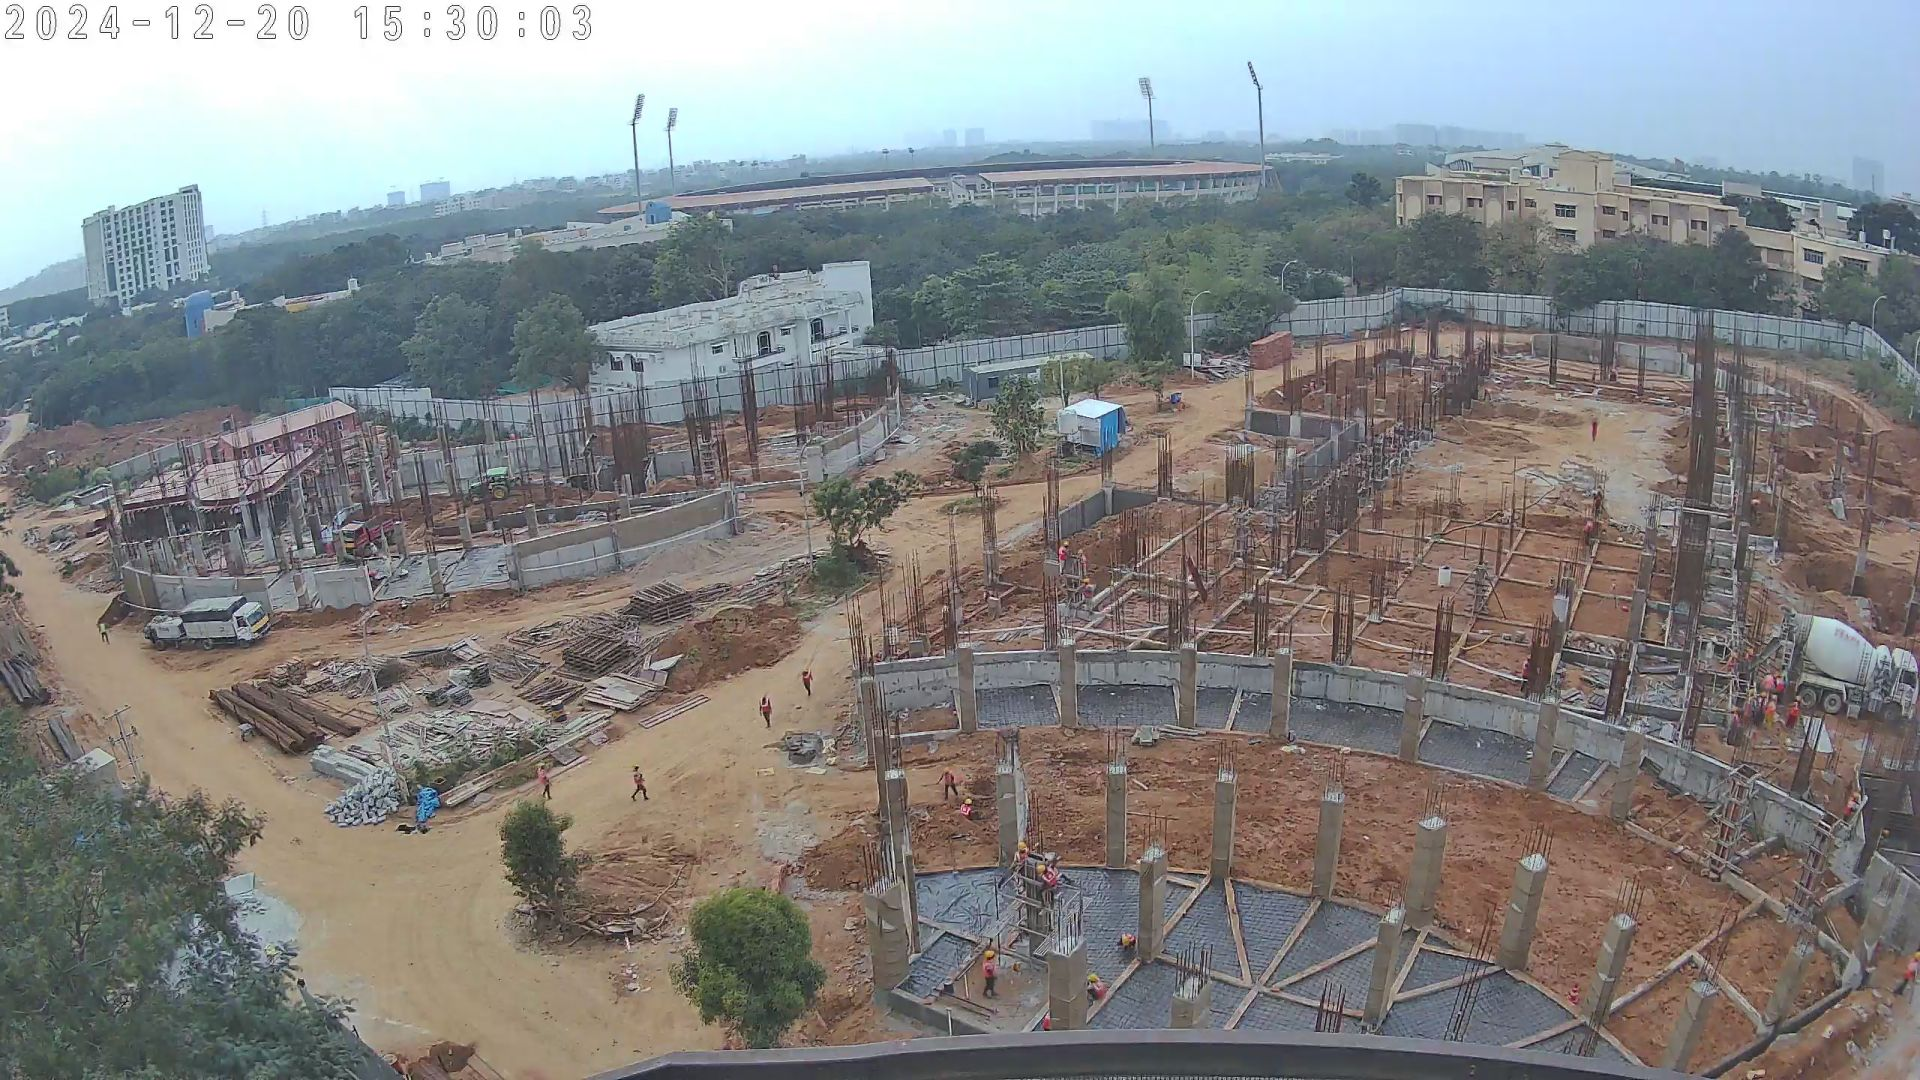bulldozer: (463, 467, 513, 507)
truck: (1779, 608, 1916, 736), (147, 594, 276, 648), (326, 514, 397, 561)
worker: (1894, 947, 1920, 1004), (979, 944, 1003, 1003), (534, 761, 561, 807), (753, 690, 780, 733), (1037, 863, 1058, 910), (1781, 693, 1806, 732), (629, 760, 650, 806), (1111, 930, 1139, 961), (1081, 973, 1106, 1004), (1843, 793, 1863, 831), (1080, 579, 1099, 616), (793, 663, 813, 698), (937, 770, 960, 798), (1016, 846, 1030, 888), (1728, 704, 1742, 745), (1058, 538, 1072, 577), (1760, 666, 1778, 694), (93, 620, 112, 645), (1587, 413, 1602, 443), (1581, 518, 1595, 546), (1756, 691, 1768, 723), (1078, 546, 1090, 578), (960, 798, 976, 822), (1594, 485, 1605, 516), (1522, 655, 1531, 690), (863, 630, 872, 660)
